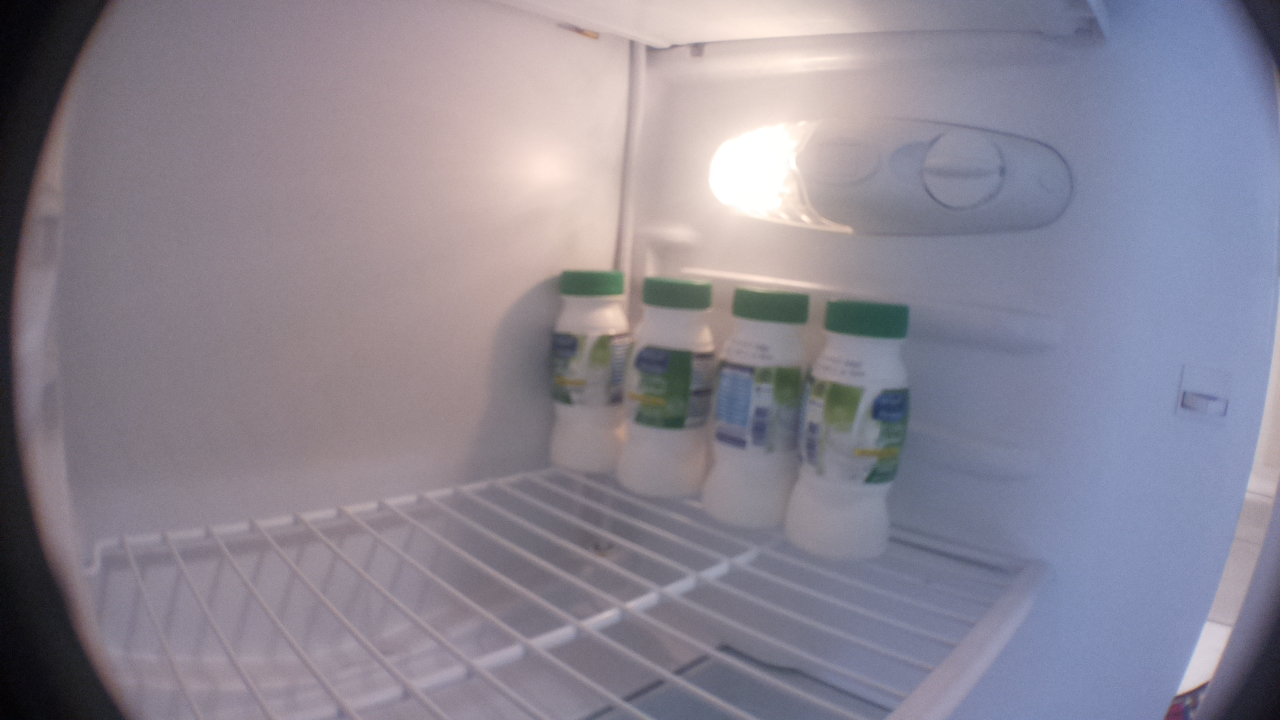laban: (782, 297, 911, 565), (698, 287, 811, 531), (616, 277, 716, 497), (550, 268, 625, 481)
